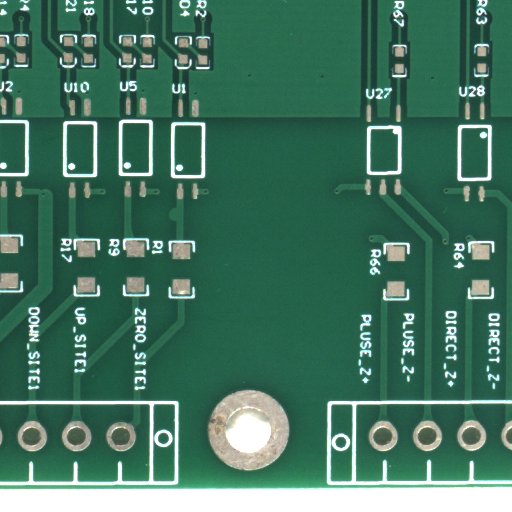Spur: (173, 213, 183, 227)
